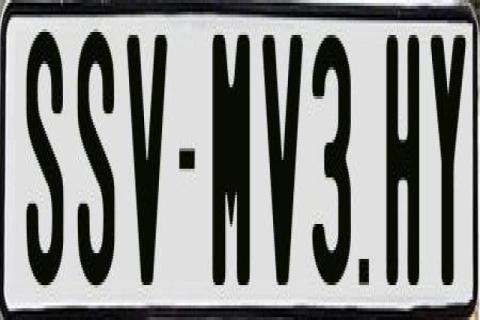0: (310, 29, 354, 297)
H: (384, 32, 422, 285)
M: (211, 26, 255, 294)
S: (77, 24, 115, 282), (25, 32, 63, 285)
V: (124, 35, 170, 297), (260, 26, 300, 282)
Y: (428, 35, 460, 297)
